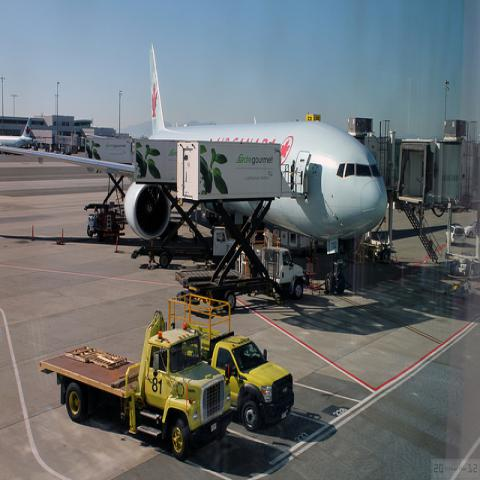car: (445, 224, 466, 246), (464, 220, 477, 237)
truck: (38, 293, 294, 461), (190, 249, 304, 309), (130, 226, 235, 268), (83, 201, 129, 245), (86, 138, 133, 164)
